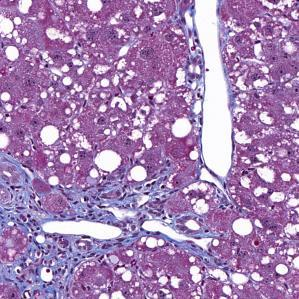fibrosis: (4, 233, 121, 299), (4, 177, 116, 225)
